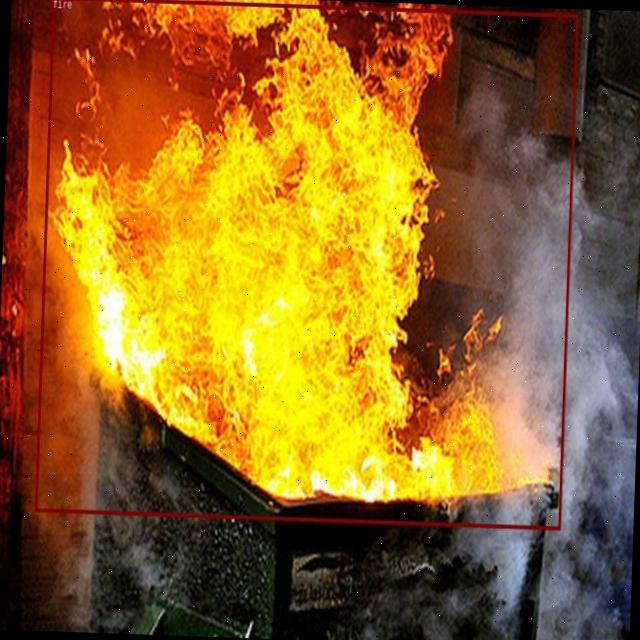fire: (34, 0, 578, 528)
